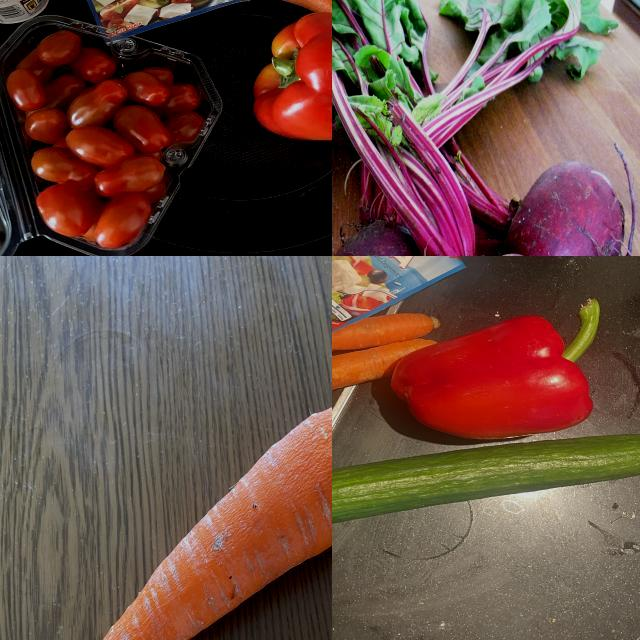beet: (495, 161, 639, 257), (333, 211, 420, 257)
carrot: (77, 399, 333, 640), (333, 335, 454, 425), (333, 305, 471, 374)
cucumber: (333, 431, 640, 545)
tomato: (1, 22, 230, 257)
